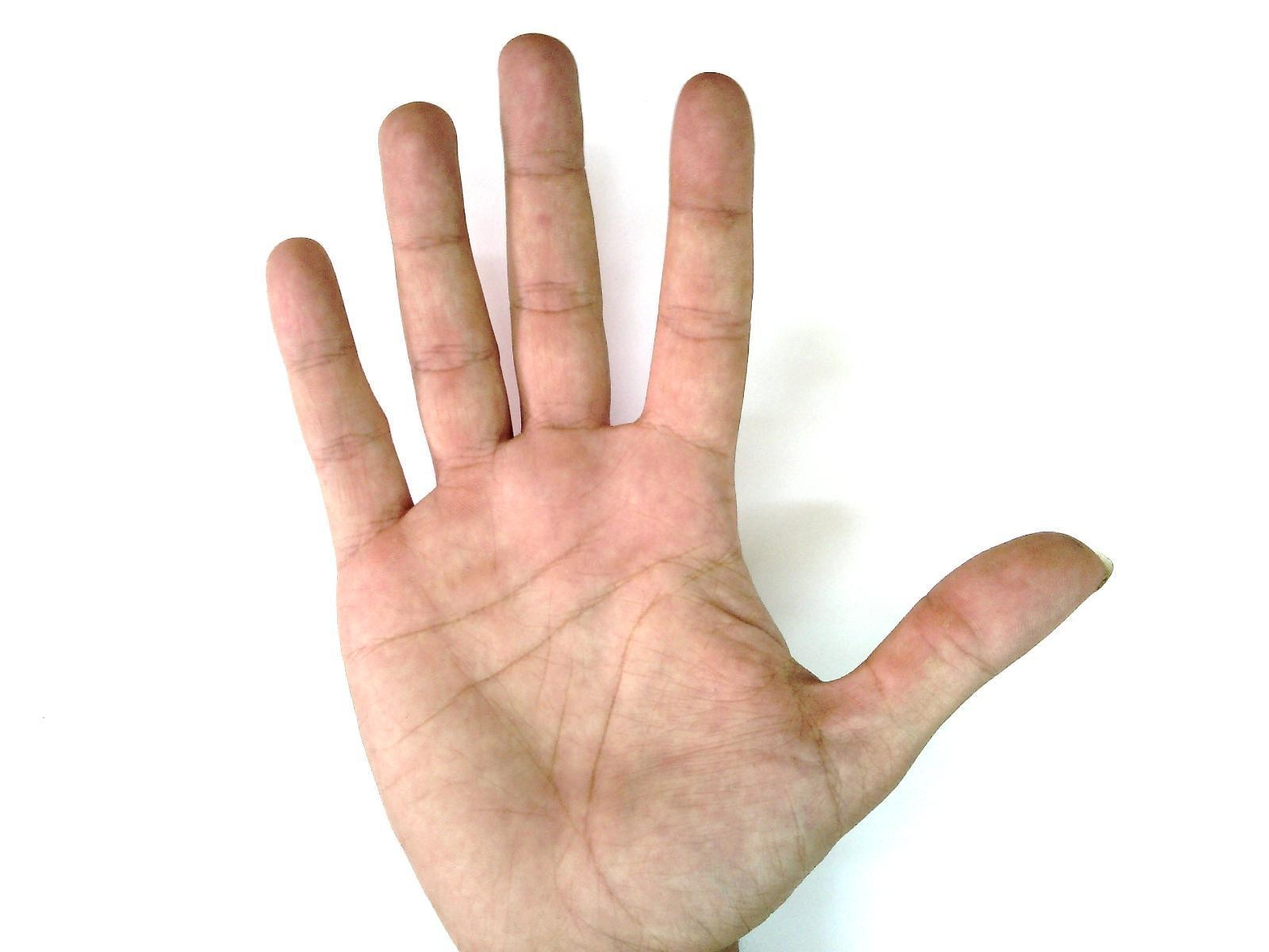open_palm: (261, 31, 1116, 951)
